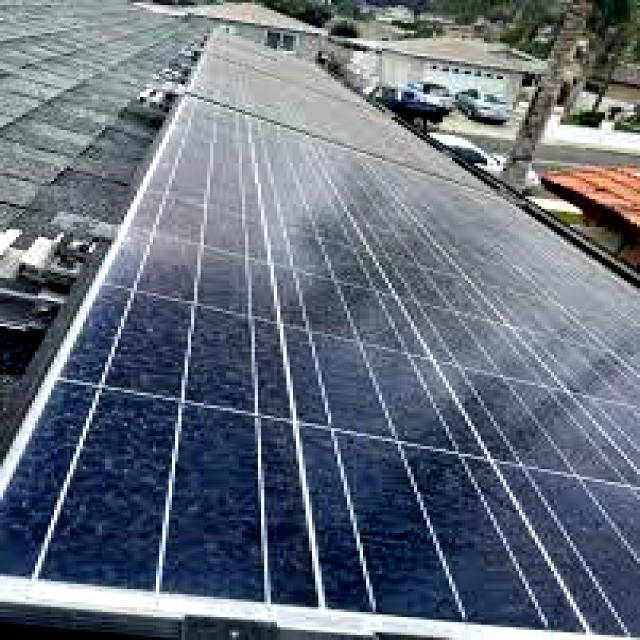dust: (310, 432, 540, 616), (154, 218, 366, 400), (407, 240, 614, 386), (186, 411, 266, 598), (190, 132, 344, 209), (94, 398, 153, 579), (232, 70, 331, 126)
